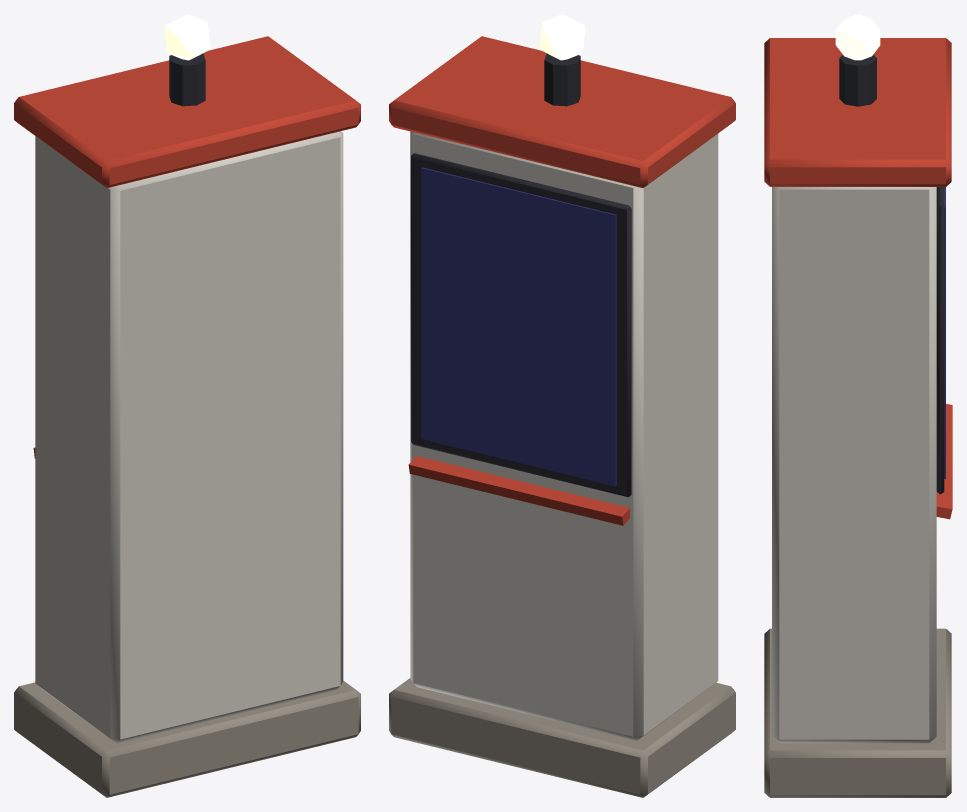
The model's file is kiosk.glb.
3 renders of one model, left to right at view 1: azimuth 30°, elevation 25°; view 2: azimuth 150°, elevation 25°; view 3: azimuth 270°, elevation 25°, orthographic.
Parts seen in each view (by area): view 1: body; view 2: body, screen; view 3: body, screen.
Boxes of the visible parts, <box> form: body: <box>14,14,360,797</box>; body: <box>389,14,735,797</box>; screen: <box>421,167,616,486</box>; body: <box>764,14,952,797</box>; screen: <box>944,187,945,478</box>.
Bounding box in the file's own units: 0.8 × 2.13 × 0.502.
